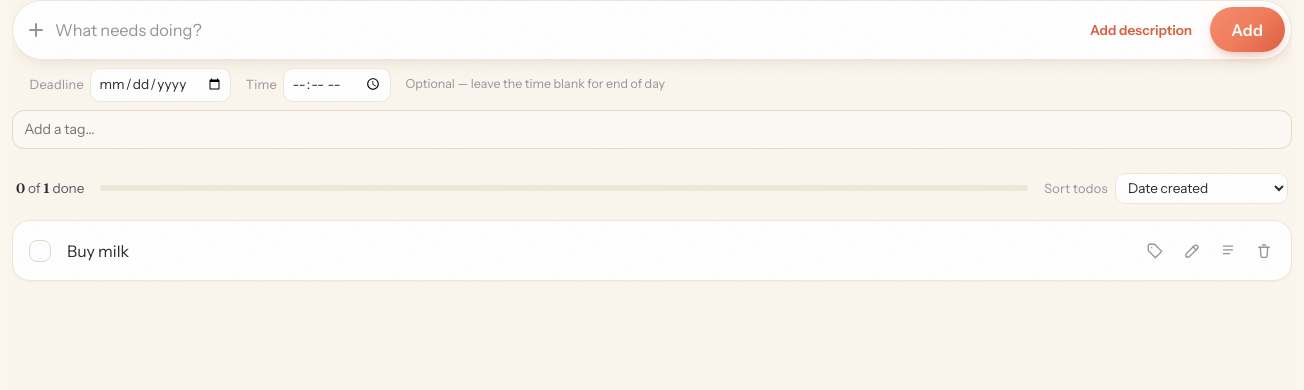
Test: TodoApp delete › shows the empty state after deleting the last todo
The width and height of the screenshot is (1304, 390).
Click the button named "Delete \"Buy milk\"" at (1264, 251), box [1247,234,1281,268]
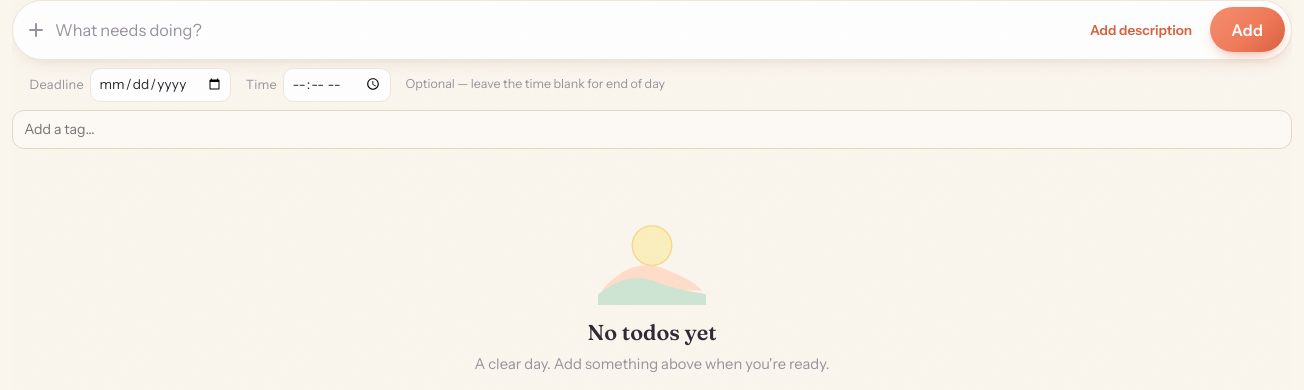
expect the text "No todos yet" is shown: met, box [588,317,717,349]
